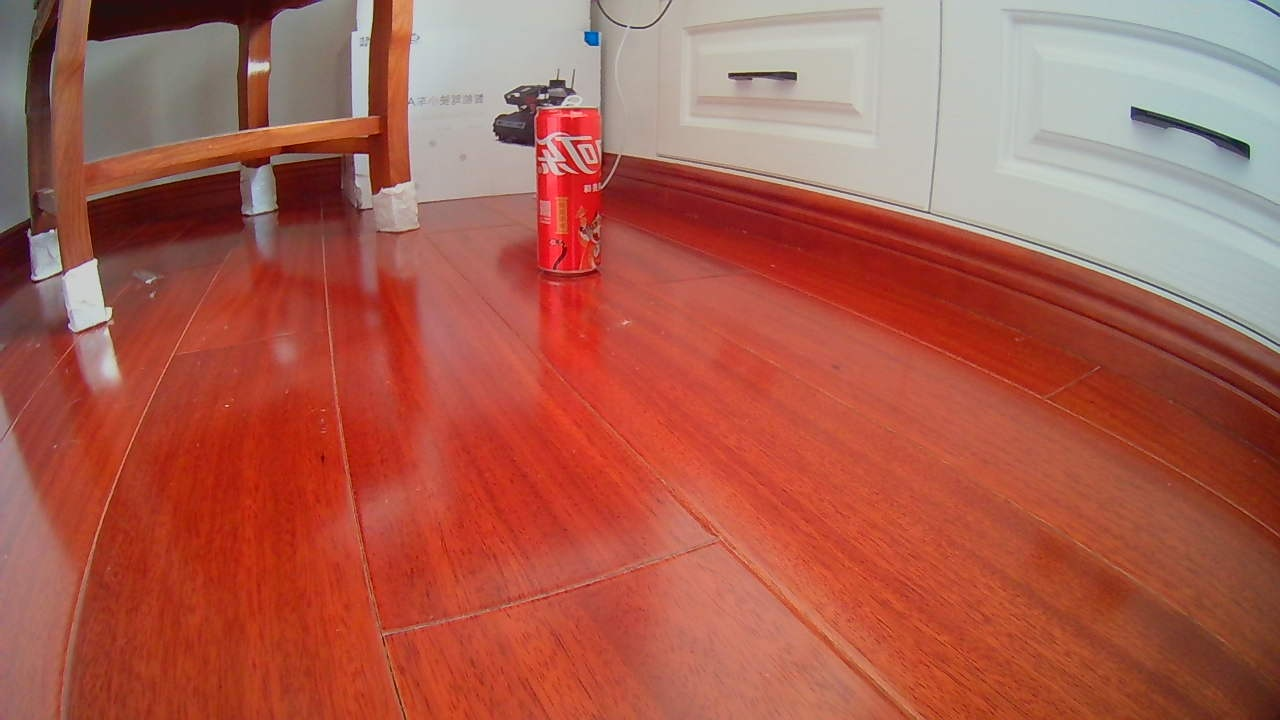cola: (531, 105, 602, 265)
